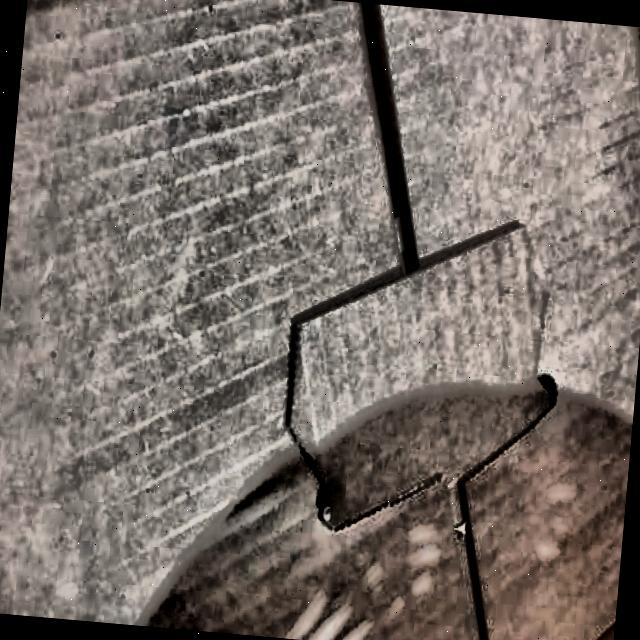cardboard: (96, 26, 639, 586)
